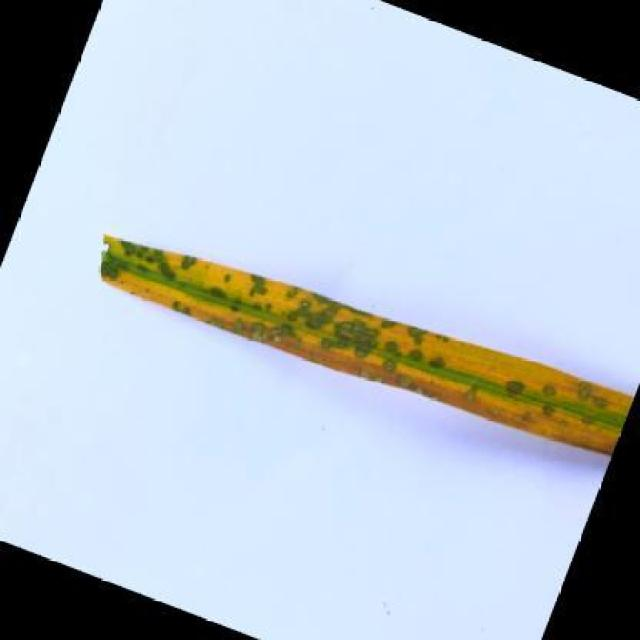Rice False Smut: (64, 188, 634, 483)
